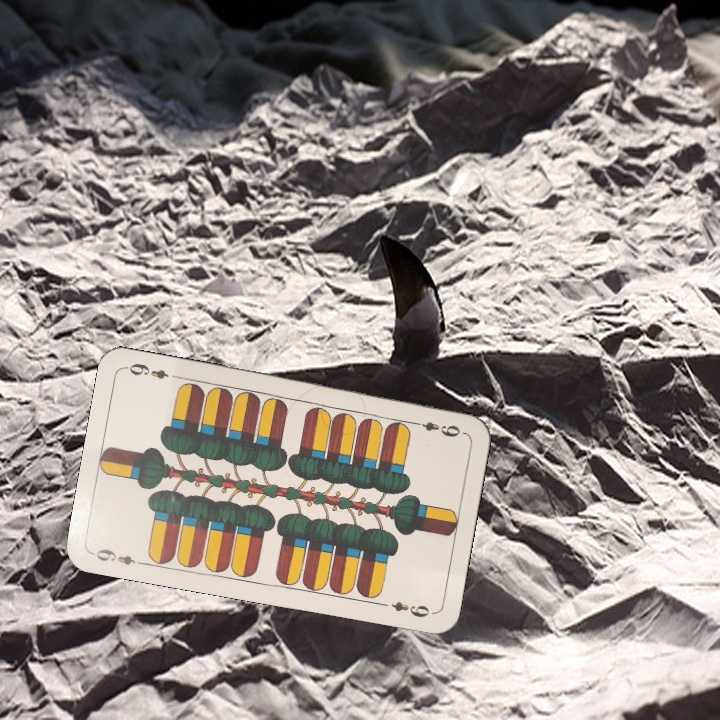E9: (89, 544, 148, 568), (407, 417, 466, 440)
